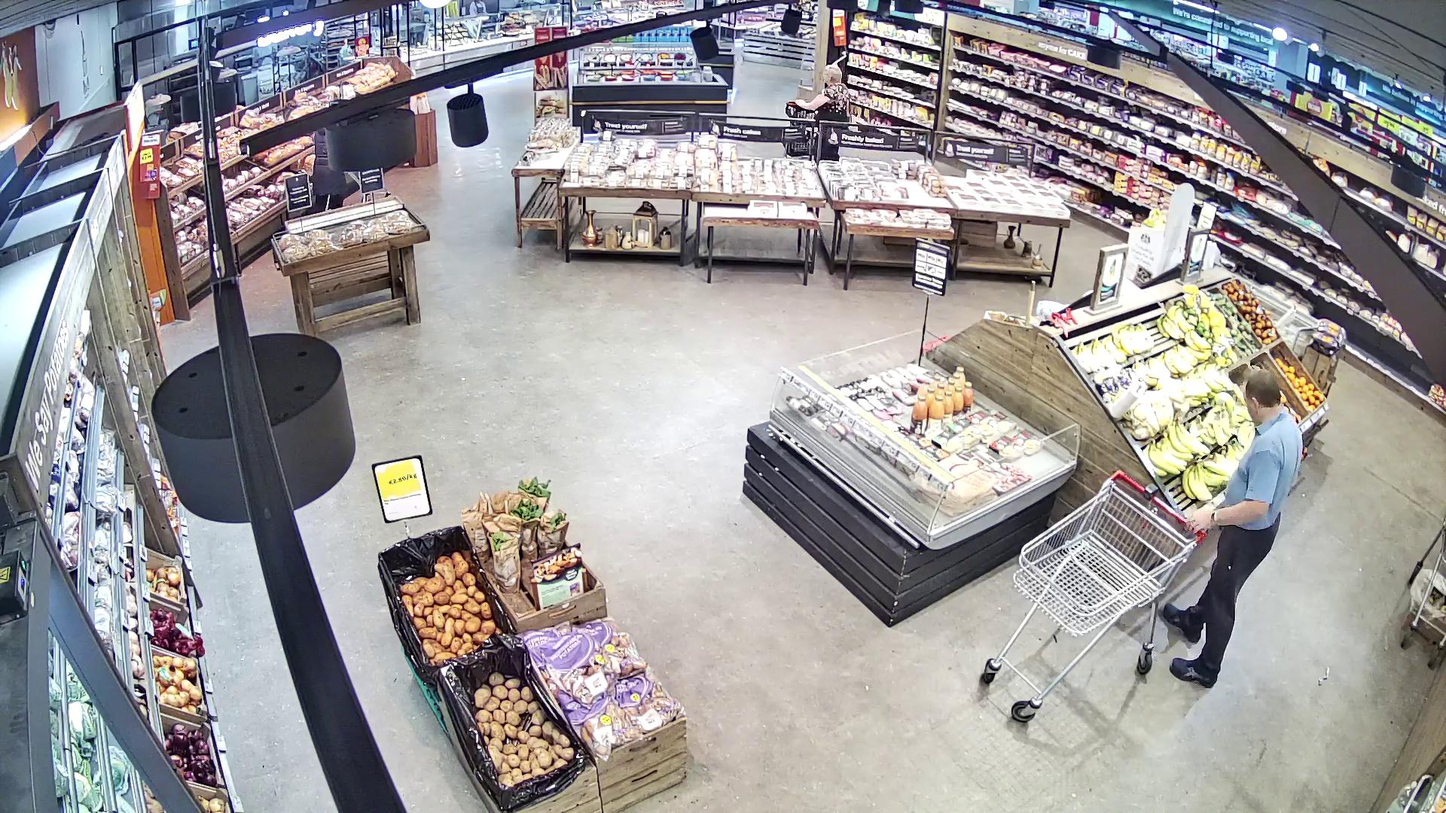person-with-empty-basket-trolly: (980, 372, 1304, 721), (981, 470, 1206, 722)
